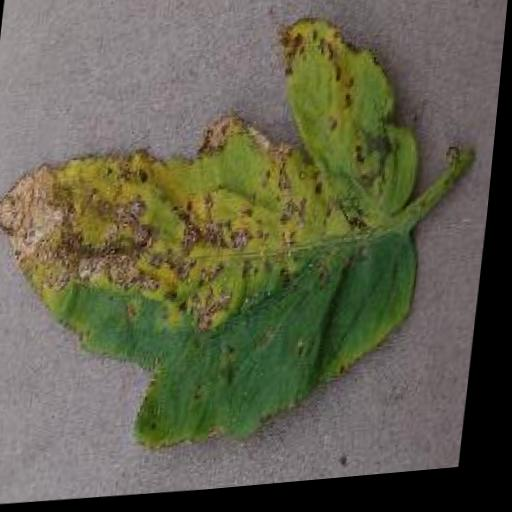Bacterial Spot: (0, 2, 459, 476)
